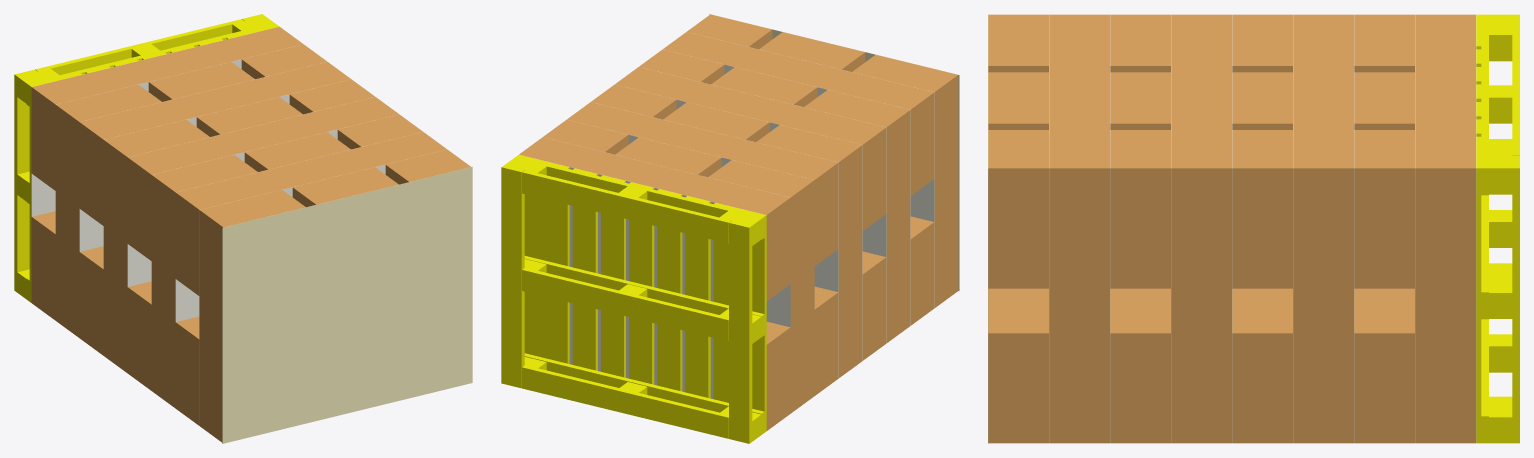
File: LoadedPallet.glb
3 views of the same model, side by side, from view 1: azimuth 30°, elevation 25°; view 2: azimuth 150°, elevation 25°; view 3: azimuth 270°, elevation 25° (orthographic). The views are drawn at different scales.
Parts seen in each view (by area): view 1: Case (×40), PalletCap, pallet, Intercallaire0 (×4); view 2: Case (×40), pallet, Intercallaire0 (×5), PalletCap; view 3: Case (×44), pallet.
Boxes of the visible parts, x1,y1,x2,y2 form: Case (×40): [31, 26, 470, 442]; PalletCap: [222, 166, 472, 443]; pallet: [14, 14, 278, 302]; Intercallaire0 (×4): [31, 27, 419, 321]; Case (×40): [519, 14, 958, 430]; pallet: [501, 155, 766, 443]; Intercallaire0 (×5): [519, 33, 934, 399]; PalletCap: [709, 14, 959, 291]; Case (×44): [988, 14, 1475, 443]; pallet: [1476, 14, 1519, 443].
Bounding box in the file's own units: 1210 × 1000 × 1753.
